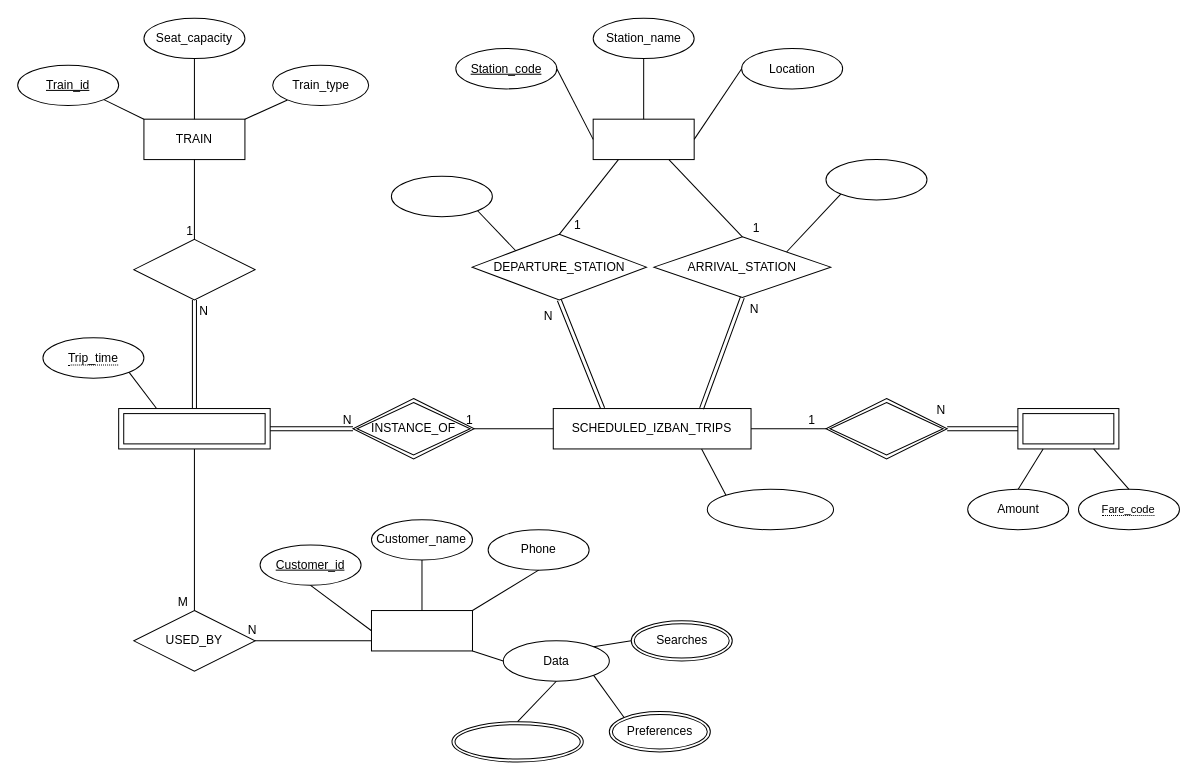
Some shapes in this 1198 by 780 pixel diagram are drawn without their labels. Here are the shapes that lost their labels. From the top down, the centre of each, then its label:
At pixel 643 139: "STATION".
At pixel 441 196: "Dep_time".
At pixel 876 179: "Arr_time".
At pixel 194 269: "ASSIGNED".
At pixel 194 428: "TRIP_INSTANCE".
At pixel 886 428: "HAS".
At pixel 1068 428: "FARE".
At pixel 770 509: "Trip_code".
At pixel 421 630: "CUSTOMER".
At pixel 517 741: "Transportation_history".
